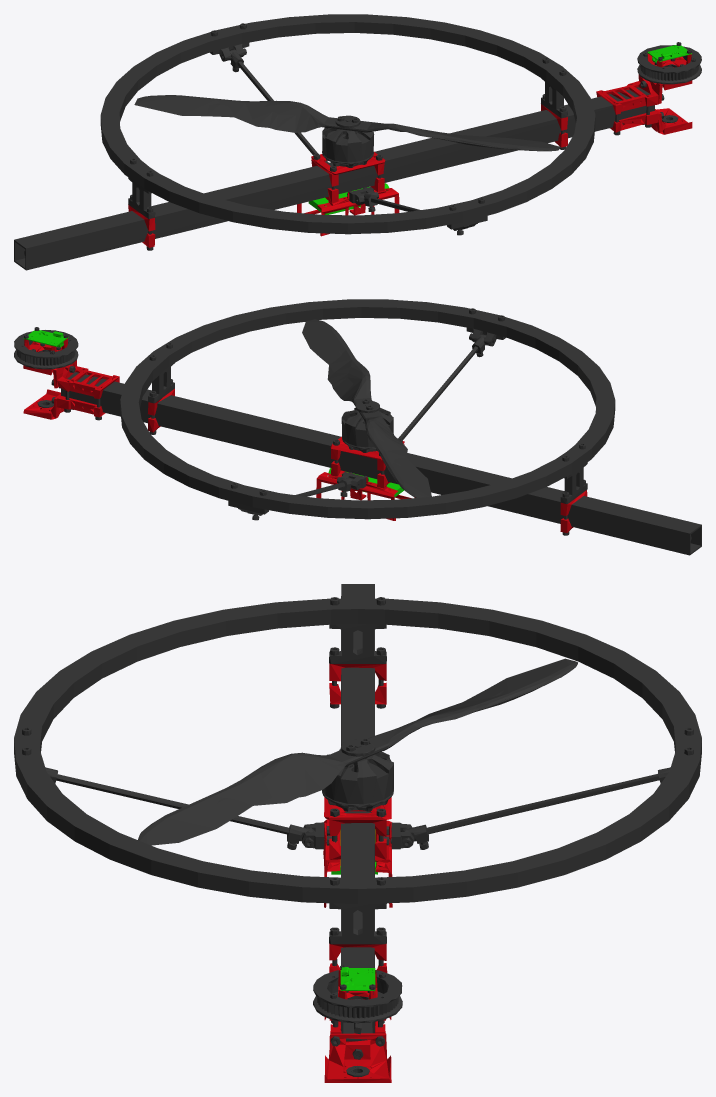
The model's file is fix_joint_link3.dae.
3 renders of one model, top to bottom at view 1: azimuth 30°, elevation 25°; view 2: azimuth 150°, elevation 25°; view 3: azimuth 270°, elevation 25°, orthographic. The views are drawn at different scales.
Parts seen in each view (by area): view 1: link3_fix_joint_black_part, link3_fix_joint_red_part, link3_fix_joint_green; view 2: link3_fix_joint_black_part, link3_fix_joint_red_part, link3_fix_joint_green; view 3: link3_fix_joint_black_part, link3_fix_joint_red_part, link3_fix_joint_green.
Part boxes in pixels (bbox=[...]): link3_fix_joint_black_part: bbox=[14, 14, 701, 270]; link3_fix_joint_red_part: bbox=[128, 53, 692, 247]; link3_fix_joint_green: bbox=[308, 45, 691, 214]; link3_fix_joint_black_part: bbox=[14, 299, 701, 555]; link3_fix_joint_red_part: bbox=[23, 338, 587, 533]; link3_fix_joint_green: bbox=[23, 330, 404, 496]; link3_fix_joint_black_part: bbox=[14, 584, 701, 1076]; link3_fix_joint_red_part: bbox=[323, 663, 392, 1082]; link3_fix_joint_green: bbox=[331, 829, 377, 990].
Size of the model in its own units: 0.6321 by 0.3997 by 0.0924.
